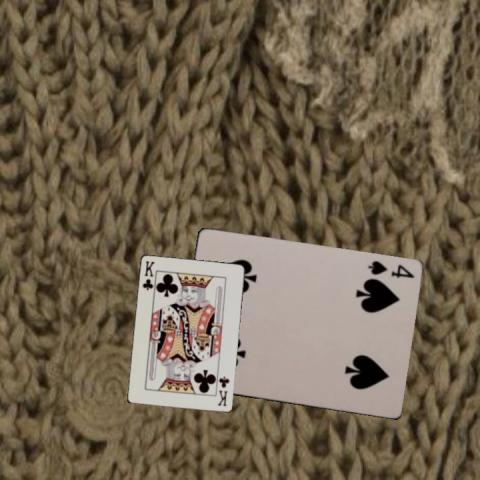4s: (365, 258, 415, 281)
Kc: (140, 258, 156, 292), (215, 374, 231, 407)
